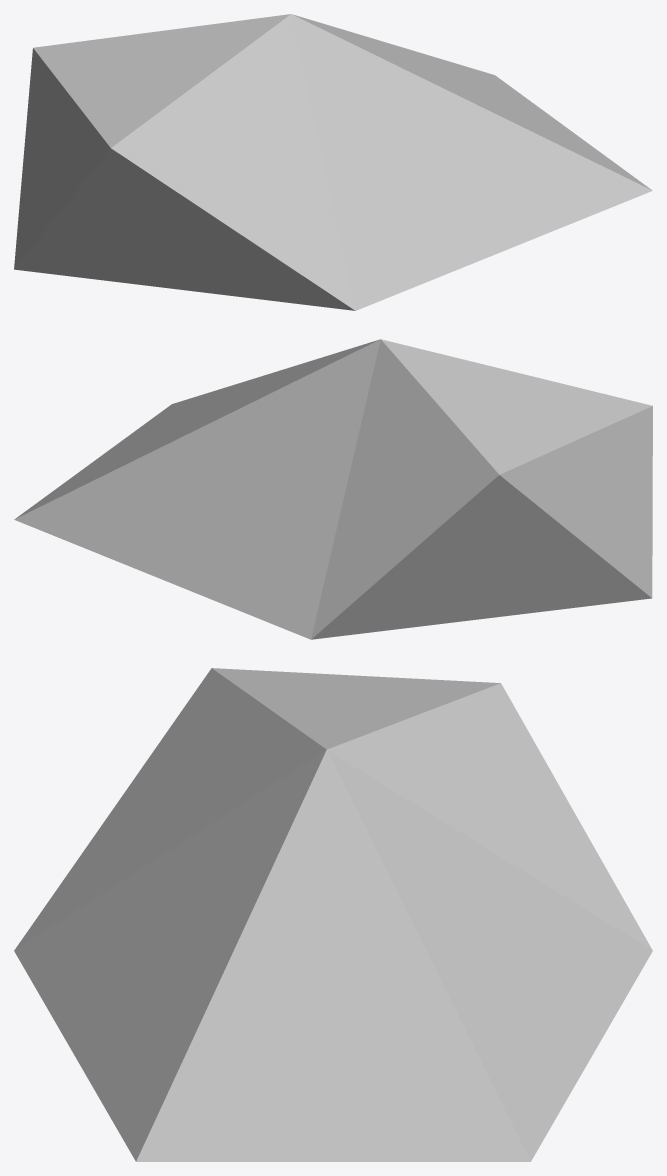
Rendered from Icemound2_Alt2.fbx.
The picture shows the model from 3 angles, top to bottom: view 1: azimuth 30°, elevation 25°; view 2: azimuth 150°, elevation 25°; view 3: azimuth 270°, elevation 25°; orthographic projection. The views are drawn at different scales.
Visible parts, largest first — view 1: Icemound2_Alt2; view 2: Icemound2_Alt2; view 3: Icemound2_Alt2.
Part boxes in pixels (<box>): Icemound2_Alt2: <box>14,14,652,310</box>; Icemound2_Alt2: <box>14,339,652,639</box>; Icemound2_Alt2: <box>14,668,652,1161</box>.
Bounding box in the file's own units: 1.46 × 0.4751 × 1.16.
